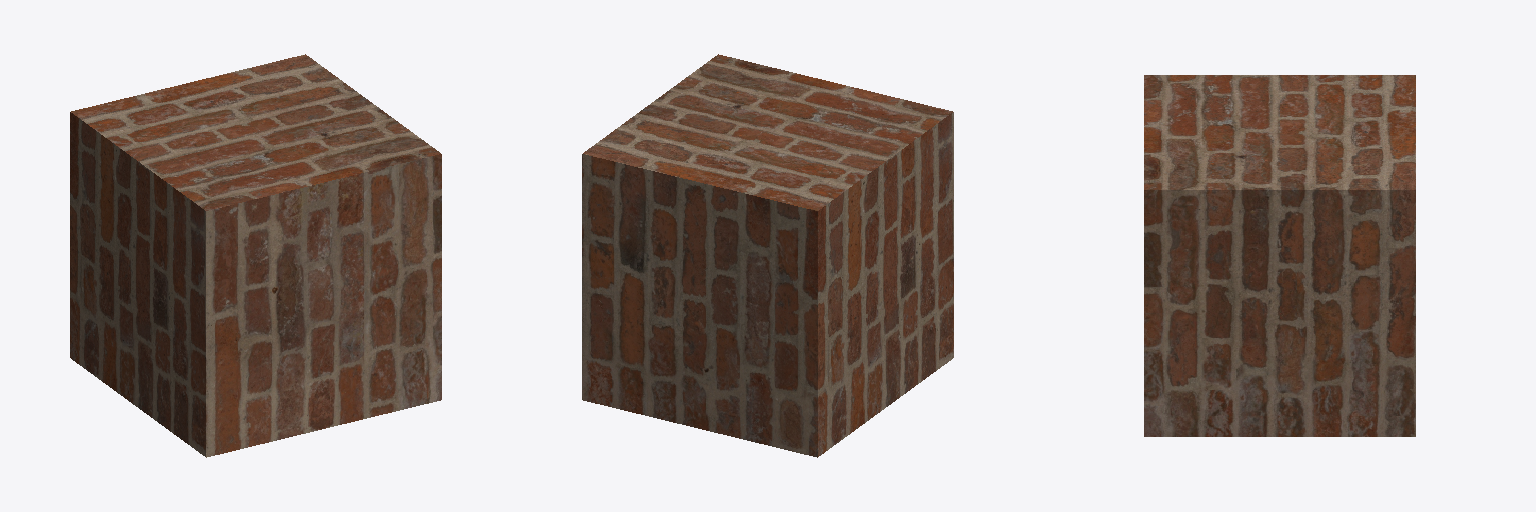
The picture shows the model from 3 angles: view 1: azimuth 30°, elevation 25°; view 2: azimuth 150°, elevation 25°; view 3: azimuth 270°, elevation 25°; orthographic projection.
Visible parts, largest first — view 1: Cube; view 2: Cube; view 3: Cube.
Boxes of the visible parts, x1=… form: Cube: x1=70, y1=54, x2=441, y2=457; Cube: x1=582, y1=54, x2=953, y2=457; Cube: x1=1144, y1=75, x2=1415, y2=436.
Bounding box in the file's own units: 2 × 2 × 2.
1 materials, 1 textured.